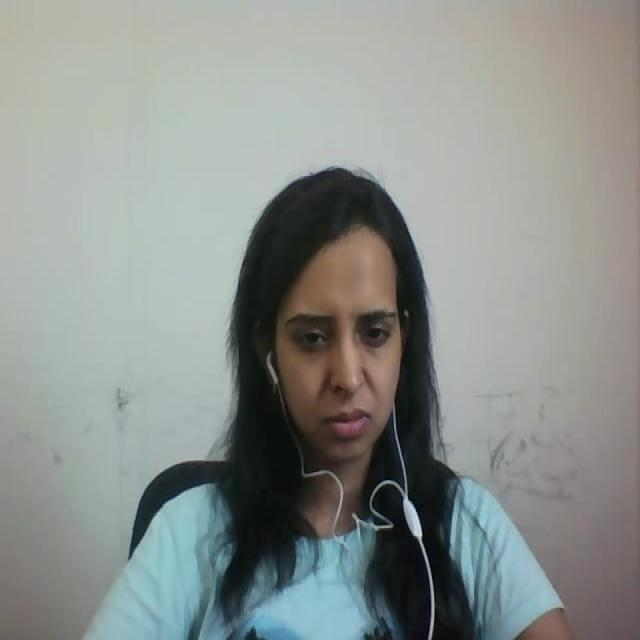Engaged: (216, 149, 449, 473)
